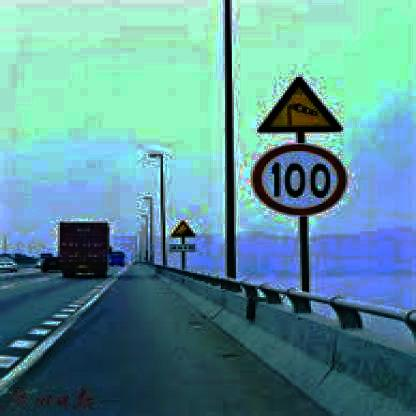Speed Limit -100-: (252, 144, 347, 215)
